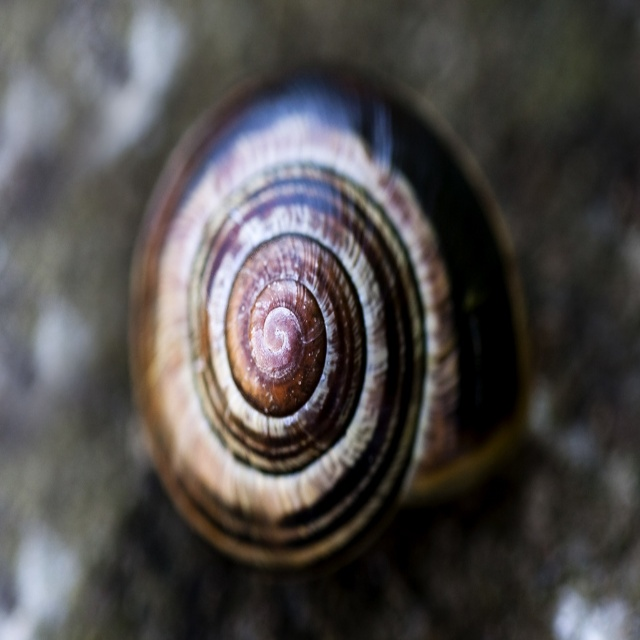Snail: (125, 54, 536, 579)
